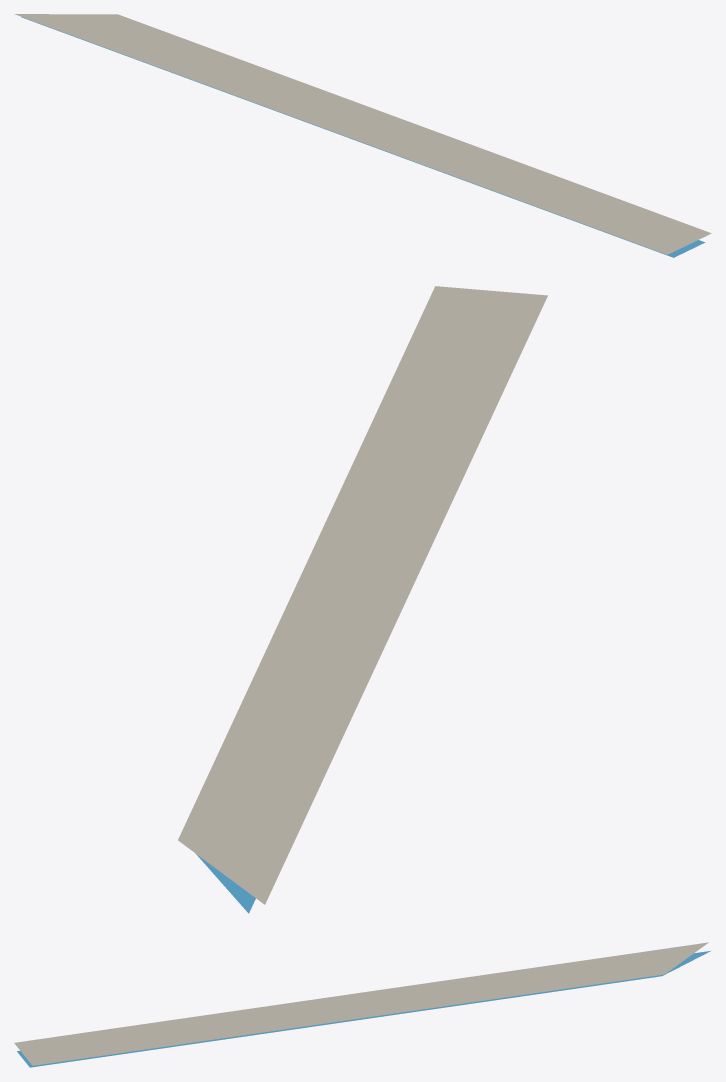
The picture shows the model from 3 angles, top to bottom: view 1: azimuth 30°, elevation 25°; view 2: azimuth 150°, elevation 25°; view 3: azimuth 270°, elevation 25°; orthographic projection. The views are drawn at different scales.
Parts seen in each view (by area): view 1: estructura_terreno, estructura_agua; view 2: estructura_terreno; view 3: estructura_terreno, estructura_agua.
Boxes of the visible parts, <box> form: estructura_terreno: <box>14,14,711,254</box>; estructura_agua: <box>21,17,705,257</box>; estructura_terreno: <box>178,286,547,904</box>; estructura_terreno: <box>14,942,708,1065</box>; estructura_agua: <box>17,950,711,1067</box>.
Size of the model in its own units: 21.35 by 0.41 by 50.96.
